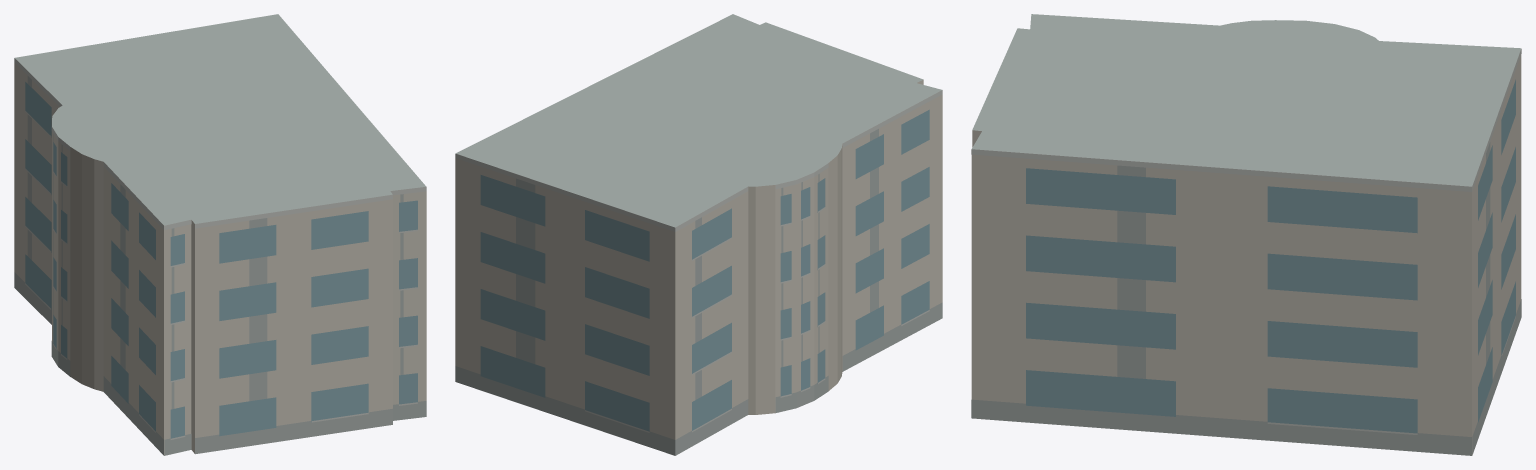
Rendered from survey-upis-32827891.glb.
The picture shows the model from 3 angles, left to right: view 1: azimuth 30°, elevation 25°; view 2: azimuth 150°, elevation 25°; view 3: azimuth 270°, elevation 25°; orthographic projection. The views are drawn at different scales.
Parts seen in each view (by area): view 1: survey-upis-32827891.tmp; view 2: survey-upis-32827891.tmp; view 3: survey-upis-32827891.tmp.
Part boxes in pixels (bbox=[...]): survey-upis-32827891.tmp: bbox=[14, 14, 426, 455]; survey-upis-32827891.tmp: bbox=[455, 14, 942, 455]; survey-upis-32827891.tmp: bbox=[971, 14, 1521, 455].
Bounding box in the file's own units: 16.8 × 12.2 × 22.6.
